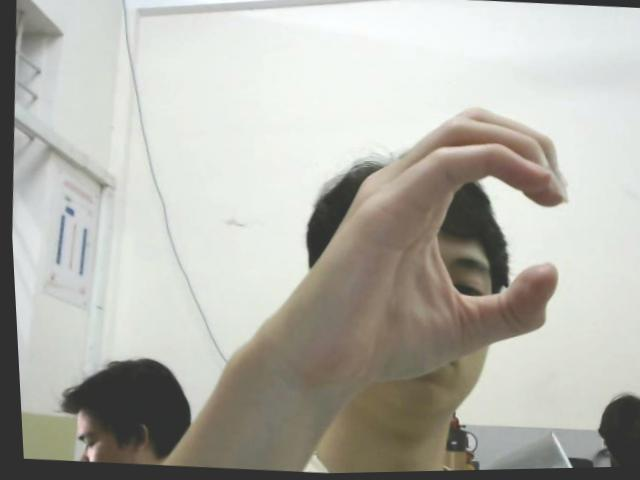C: (293, 93, 583, 385)
